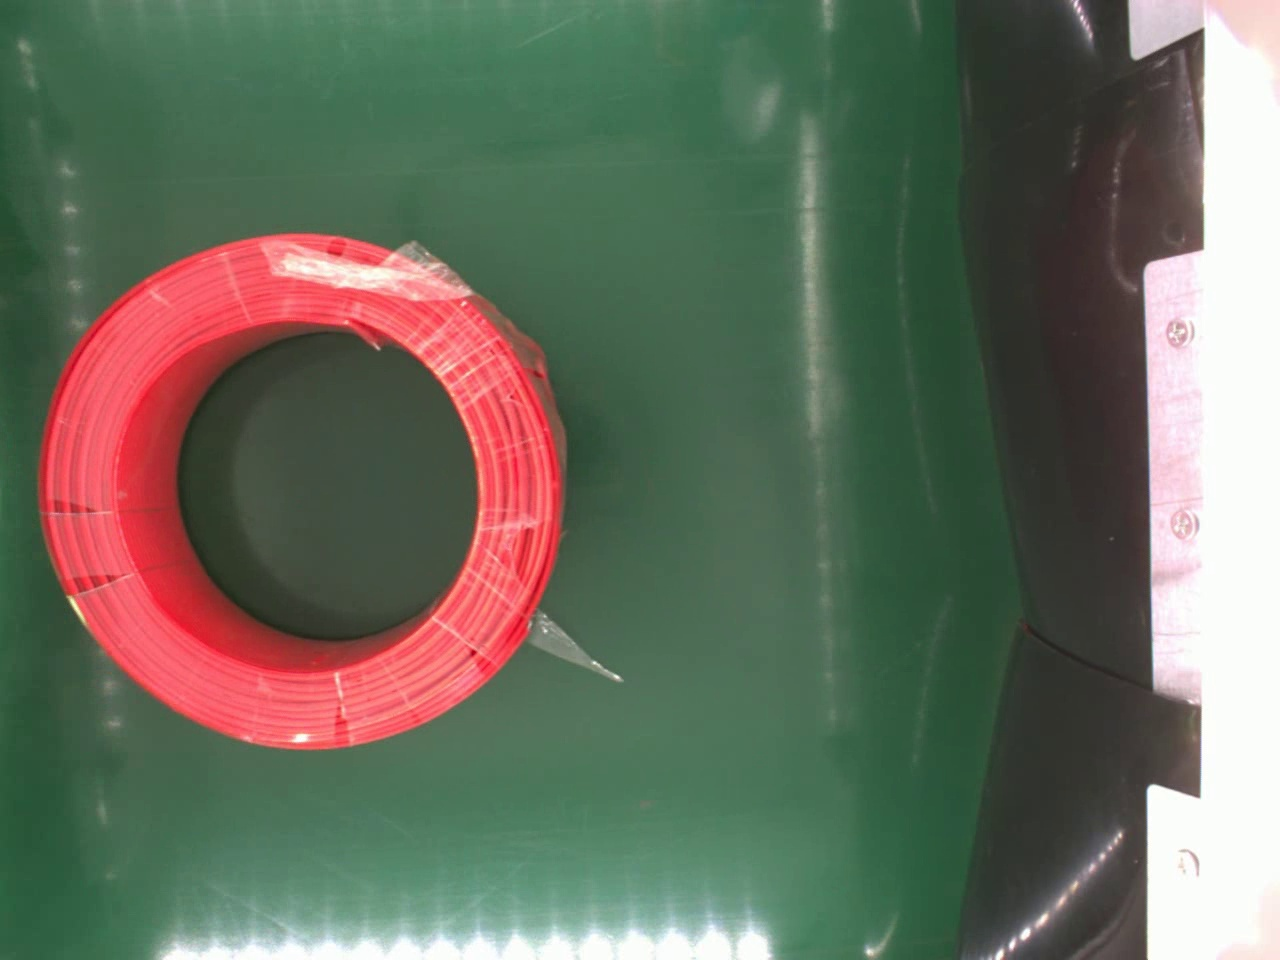red: (32, 231, 573, 753)
